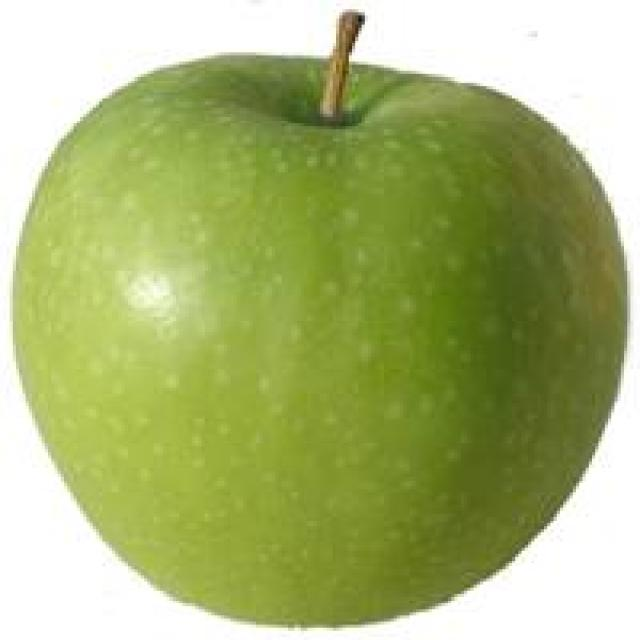apple: (41, 48, 590, 578)
